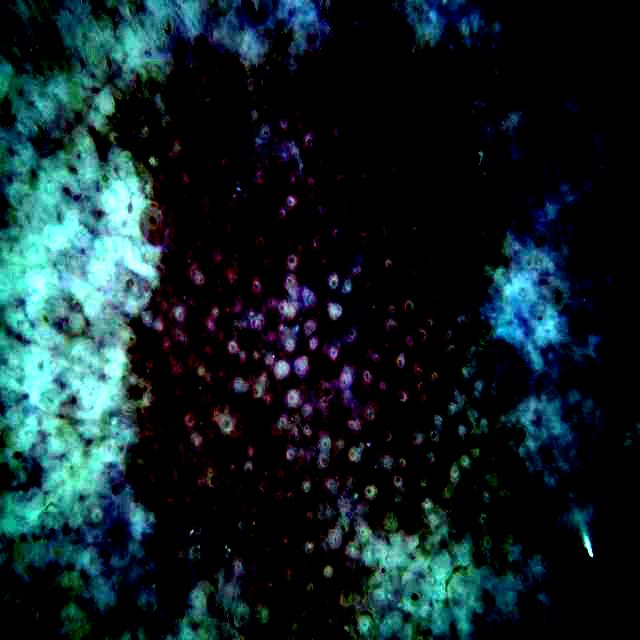AKIEC: (122, 48, 498, 584)
